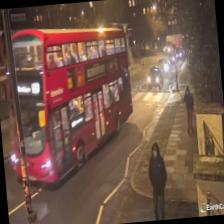person: (145, 142, 171, 220), (182, 86, 196, 134)
